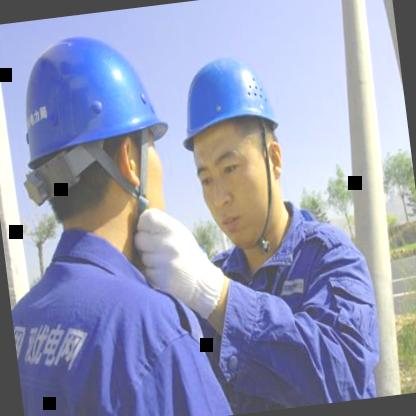helmet: (0, 14, 178, 265), (158, 35, 302, 266)
